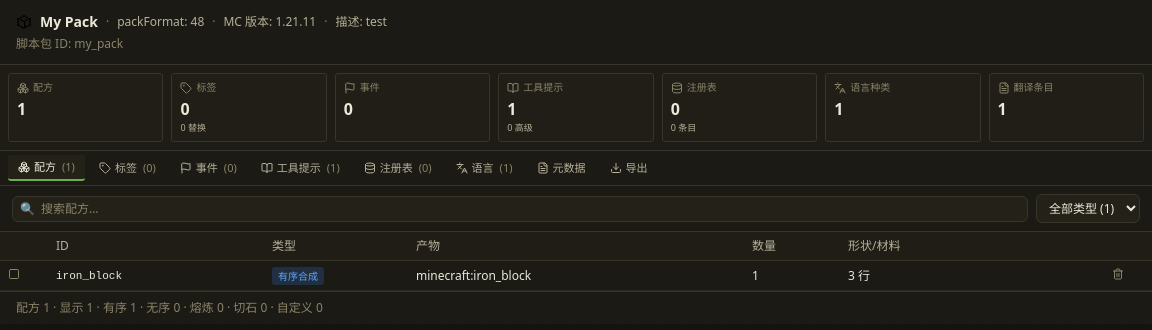
Scenario: KubejsPreviewPanel › 切到工具提示 tab 显示内容
# 点击 tab 栏中的"工具提示"按钮（在容器内找 button）
Click the tab "工具提示 (1)" at point(300, 168), box top-left (251, 156), bottom-right (350, 180)
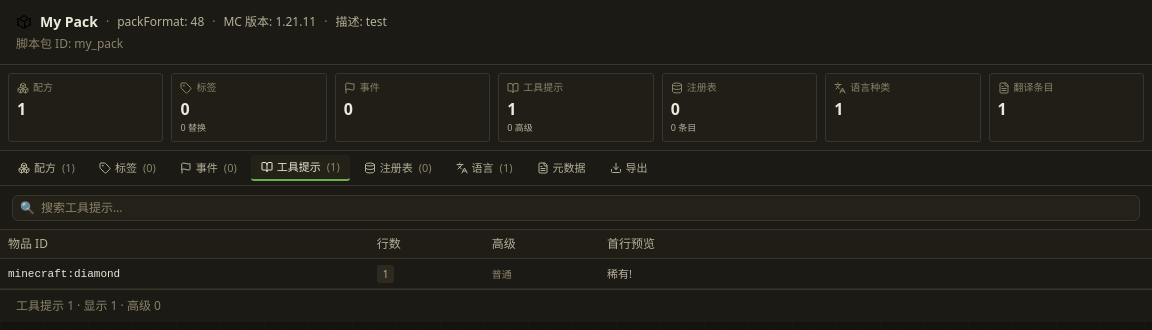
Expected: the text "稀有!" is shown, top-left (607, 266), bottom-right (632, 280)
